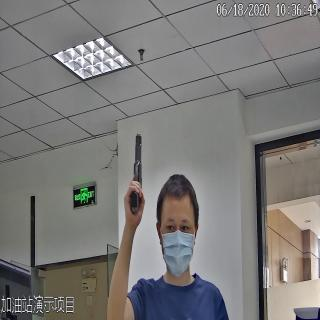gun: (125, 135, 150, 213)
